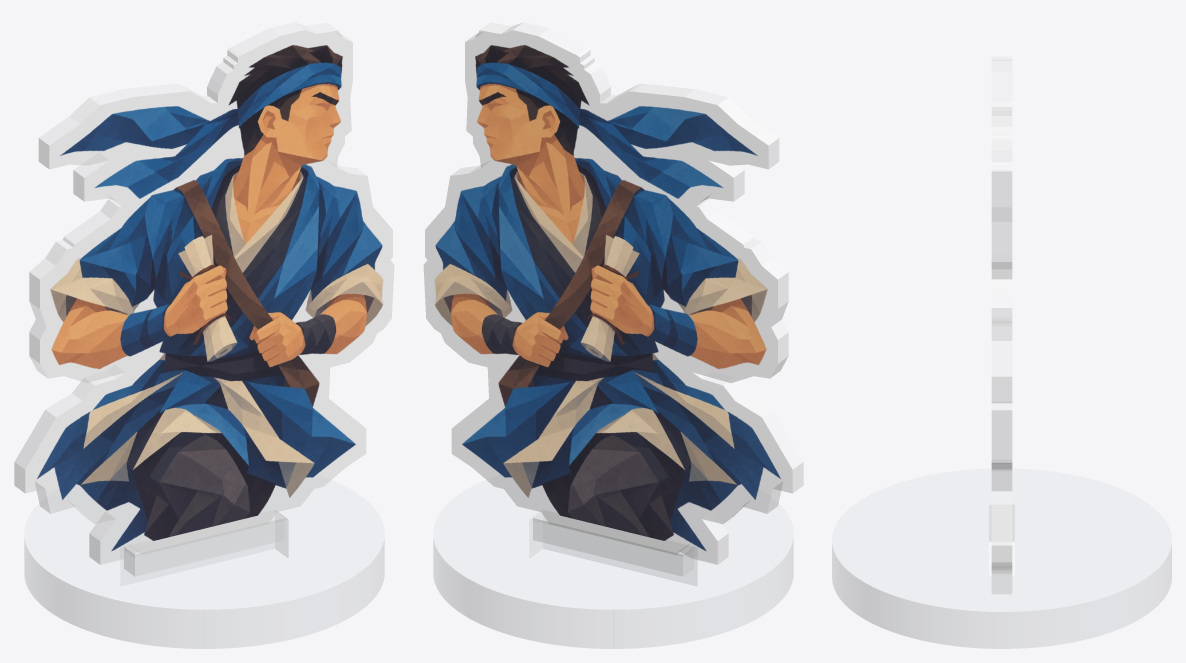
File: truyen-lenh-lam.glb
3 views of the same model, side by side, from view 1: azimuth 30°, elevation 25°; view 2: azimuth 150°, elevation 25°; view 3: azimuth 270°, elevation 25° (orthographic). The views are drawn at different scales.
Visible parts, largest first — view 1: ArtworkFront, RoundBaseWithSlot, AcrylicSilhouette, InsertTab; view 2: ArtworkBack, RoundBaseWithSlot, AcrylicSilhouette, InsertTab; view 3: RoundBaseWithSlot, AcrylicSilhouette, InsertTab.
Boxes of the visible parts, <box> form: ArtworkFront: <box>37,45,383,551</box>; RoundBaseWithSlot: <box>24,475,384,648</box>; AcrylicSilhouette: <box>14,22,393,564</box>; InsertTab: <box>124,510,284,576</box>; ArtworkBack: <box>434,45,780,551</box>; RoundBaseWithSlot: <box>433,475,793,648</box>; AcrylicSilhouette: <box>424,22,803,564</box>; InsertTab: <box>533,510,693,576</box>; RoundBaseWithSlot: <box>832,468,1171,648</box>; AcrylicSilhouette: <box>991,57,1012,573</box>; InsertTab: <box>992,505,1011,593</box>.
Bounding box in the file's own units: 29.56 × 40.06 × 25.
Materials: 5 (2 with a texture image).
